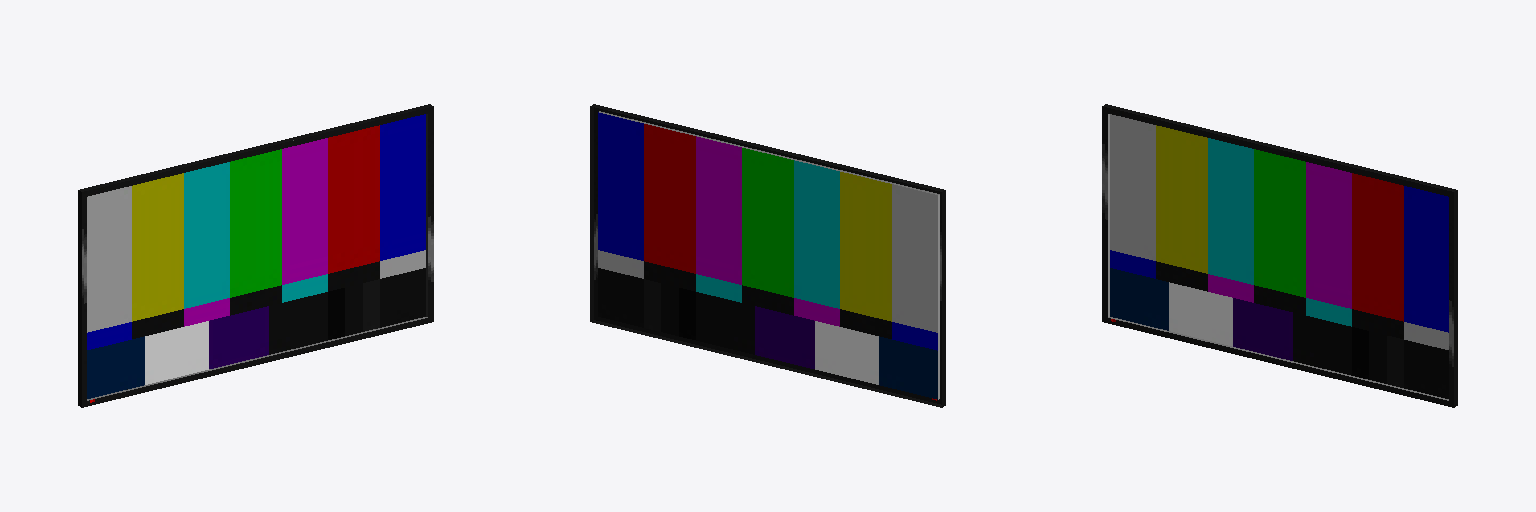
The picture shows the model from 3 angles: view 1: azimuth 30°, elevation 25°; view 2: azimuth 150°, elevation 25°; view 3: azimuth 330°, elevation 25°; orthographic projection.
Parts seen in each view (by area): view 1: screen tv_geo, tv_geo frame; view 2: screen tv_geo, tv_geo frame; view 3: screen tv_geo, tv_geo frame.
Boxes of the visible parts, x1=… form: screen tv_geo: x1=87, y1=114, x2=425, y2=398; tv_geo frame: x1=78, y1=104, x2=433, y2=407; screen tv_geo: x1=598, y1=112, x2=937, y2=399; tv_geo frame: x1=590, y1=104, x2=945, y2=407; screen tv_geo: x1=1110, y1=114, x2=1448, y2=398; tv_geo frame: x1=1102, y1=104, x2=1457, y2=407.
Size of the model in its own units: 128 by 75 by 2.
2 materials, 1 textured.